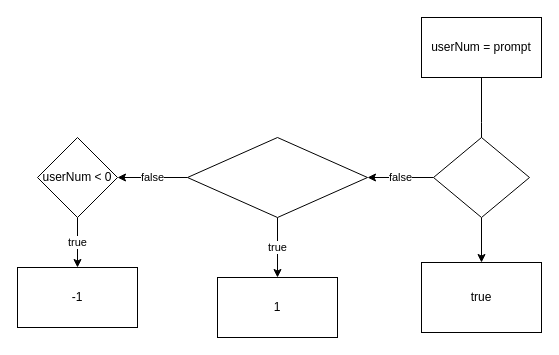
The diagram is 559 pixels wide and 355 high, and some of its shapes have lost their labels. Each missing label, with the centre of its shape:
"userNum === 0" belongs at [481,177].
"userNum > 0" belongs at [277,177].
